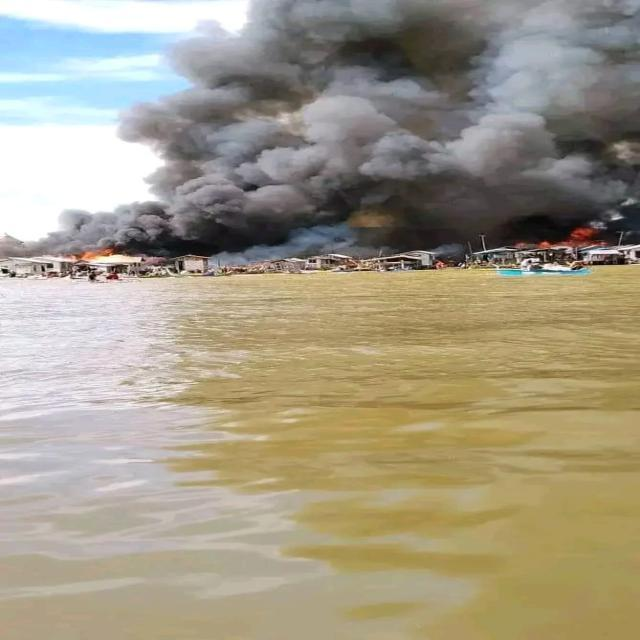Fire: (545, 226, 615, 246), (72, 248, 115, 260)
Smoke: (253, 1, 640, 205), (134, 104, 543, 238), (0, 207, 182, 247)
